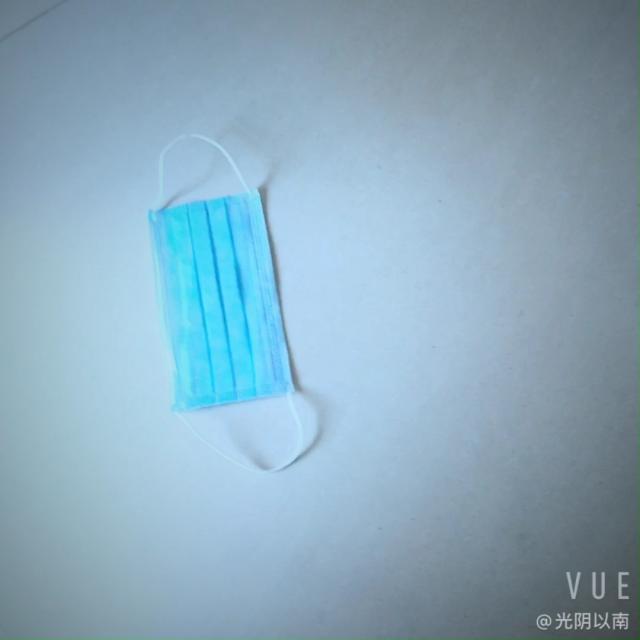face mask: (139, 166, 318, 422)
